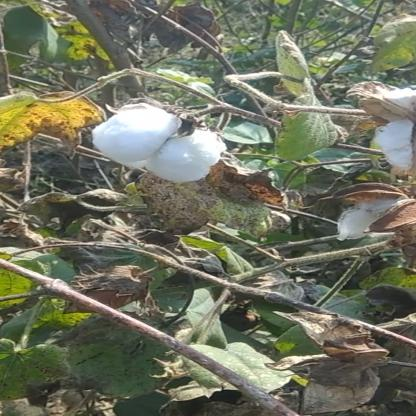cotton_ready: (92, 90, 240, 189)
